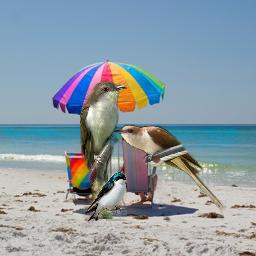Cuckoo: (112, 124, 227, 212), (80, 77, 127, 219)
Swallow: (84, 172, 127, 221)
